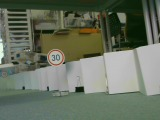speed_30: (47, 49, 66, 67)
